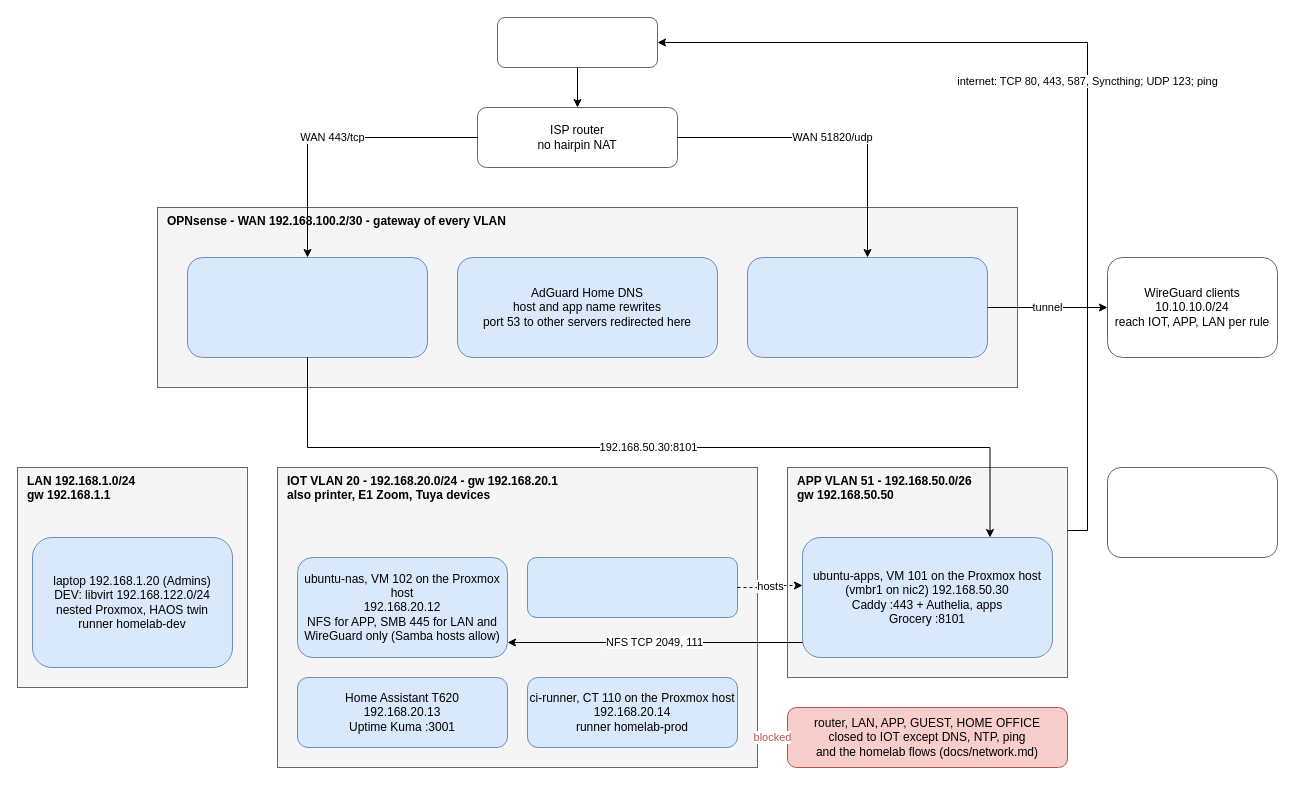
The diagram is 1295 pixels wide and 785 high, and some of its shapes have lost their labels. Each missing label, with the centre of its shape:
"DMZ VLAN 50 192.168.50.64/28 unused, DHCP off" belongs at (x=1192, y=512).
"HAProxy grocery.dkhomelabserver.xyz Let's Encrypt" belongs at (x=307, y=307).
"Internet" belongs at (x=577, y=42).
"Proxmox host 192.168.20.20 mgmt vmbr0.20 on bond0" belongs at (x=632, y=587).
"WireGuard wg0 10.10.10.1/24" belongs at (x=867, y=307).
